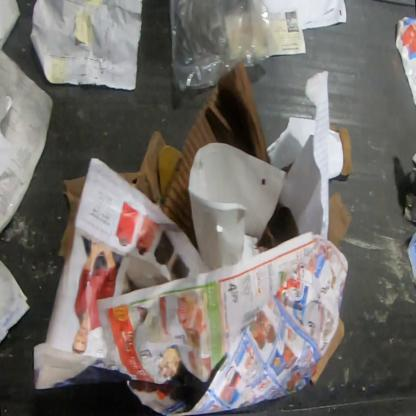cardboard: (162, 63, 270, 249), (116, 130, 165, 209), (309, 315, 346, 386), (57, 176, 86, 260), (256, 202, 297, 252), (328, 190, 353, 250), (330, 123, 353, 177), (400, 168, 415, 224)
rigid_plastic: (157, 143, 186, 196)
soft_plastic: (168, 0, 279, 95), (0, 57, 56, 237)
